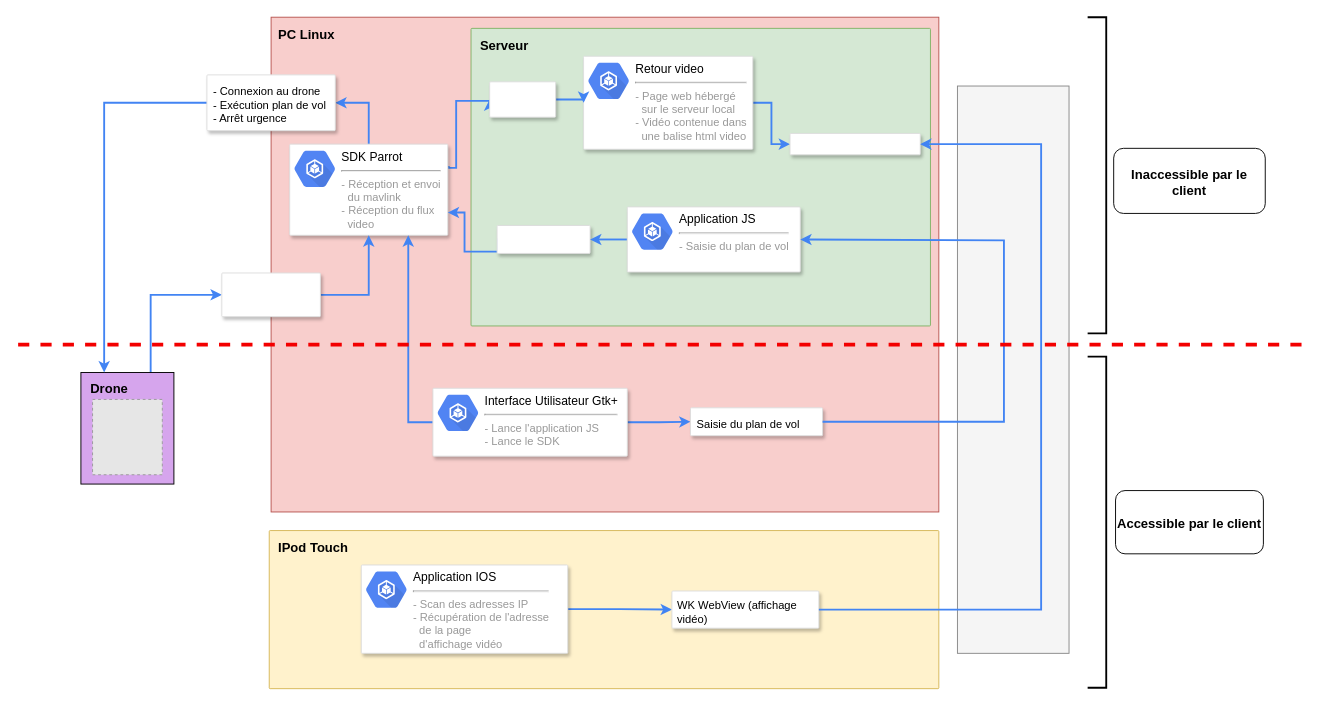
This 1320x705 diagram has some shape labels left out. Grey dashed boxes stand in for pictures. Here are the shapes that lost their labels. From the top down, the centre of each, then its label:
the point at 523,100: Flux vidéo h.264
the point at 855,145: Page d'affichage vidéo
the point at 544,240: Fichier MavLink
the point at 271,295: - Flux vidéo - État du drone
the point at 1013,369: Réseau local
